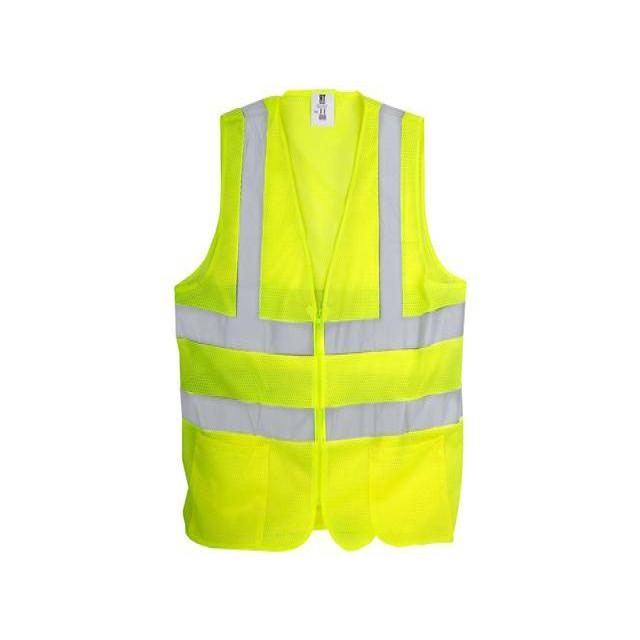Reflective-Jacket: (151, 79, 484, 566)
